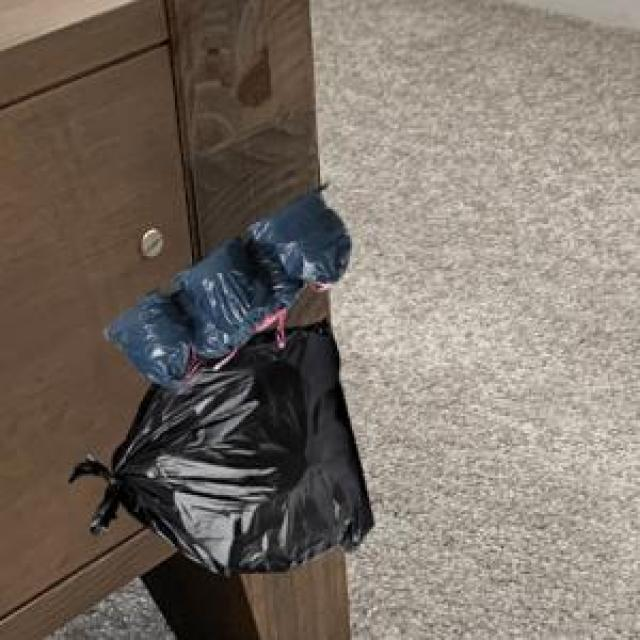waste: (71, 191, 372, 574)
